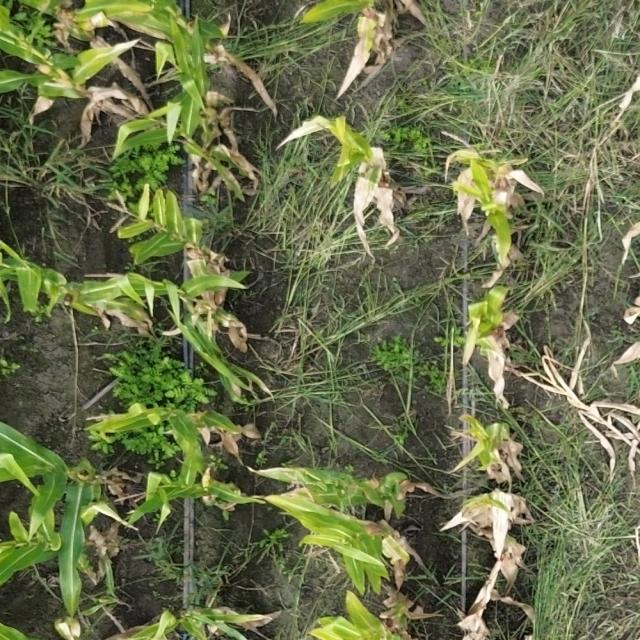gray-leaf-spot: (279, 490, 396, 574)
northern-leaf-blight: (318, 156, 386, 271)
